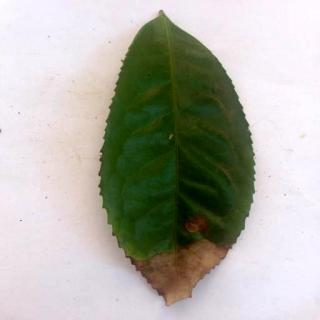Brown Blight: (100, 10, 258, 309)
